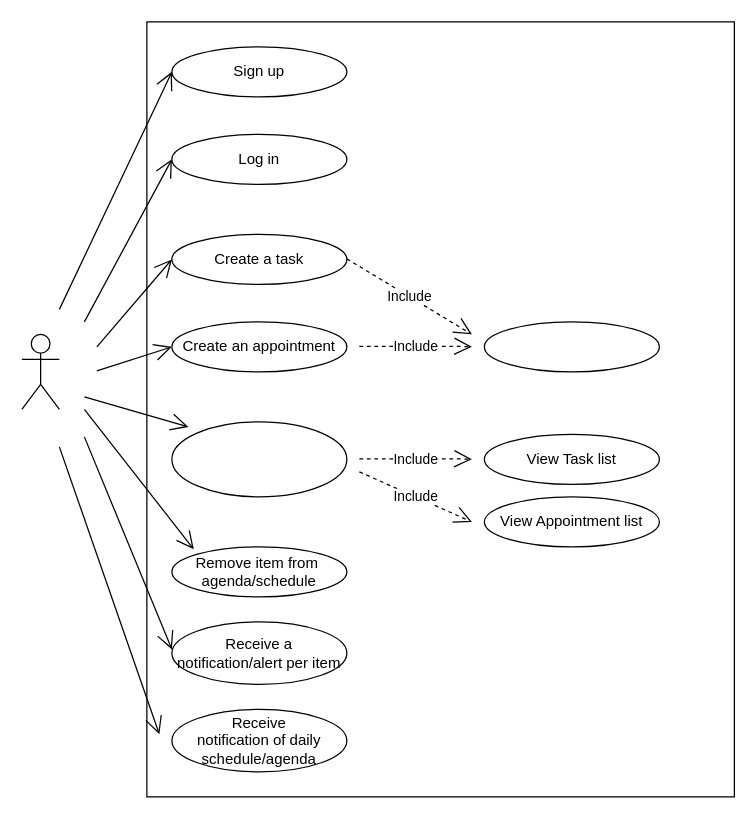
The diagram is 756 pixels wide and 819 high, and some of its shapes have lost their labels. Here are the shapes that lost their labels. From the top down, the centre of each, then its label:
At point 571,346: "set a reminder".
At point 40,371: "User".
At point 259,459: "View agenda/schedule organized by categories".
